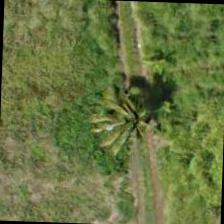Kelapa_Sawit: (85, 71, 178, 164)
